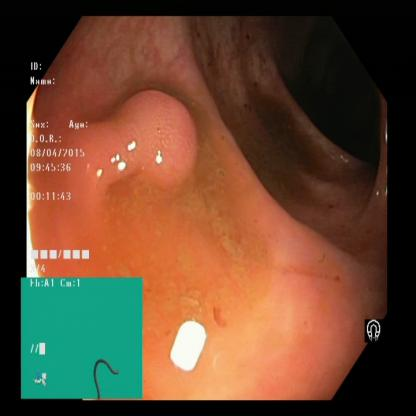Labels: (24, 50, 92, 278)
Polyps: (92, 94, 202, 192)
